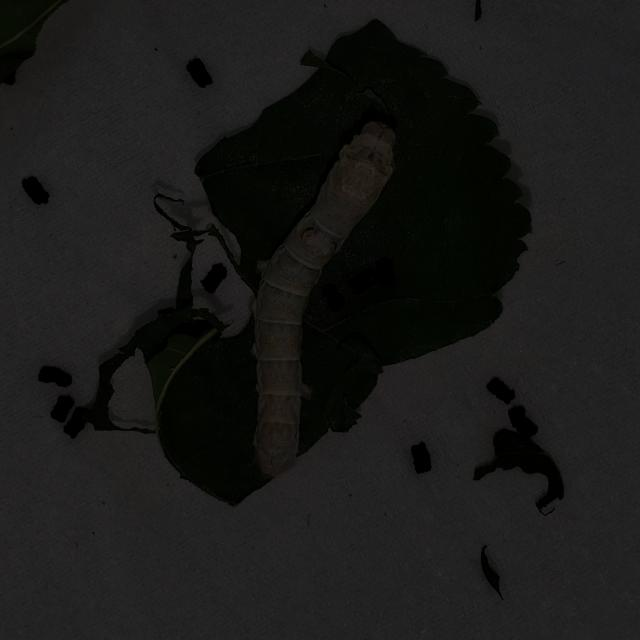Healthy: (211, 100, 464, 500)
